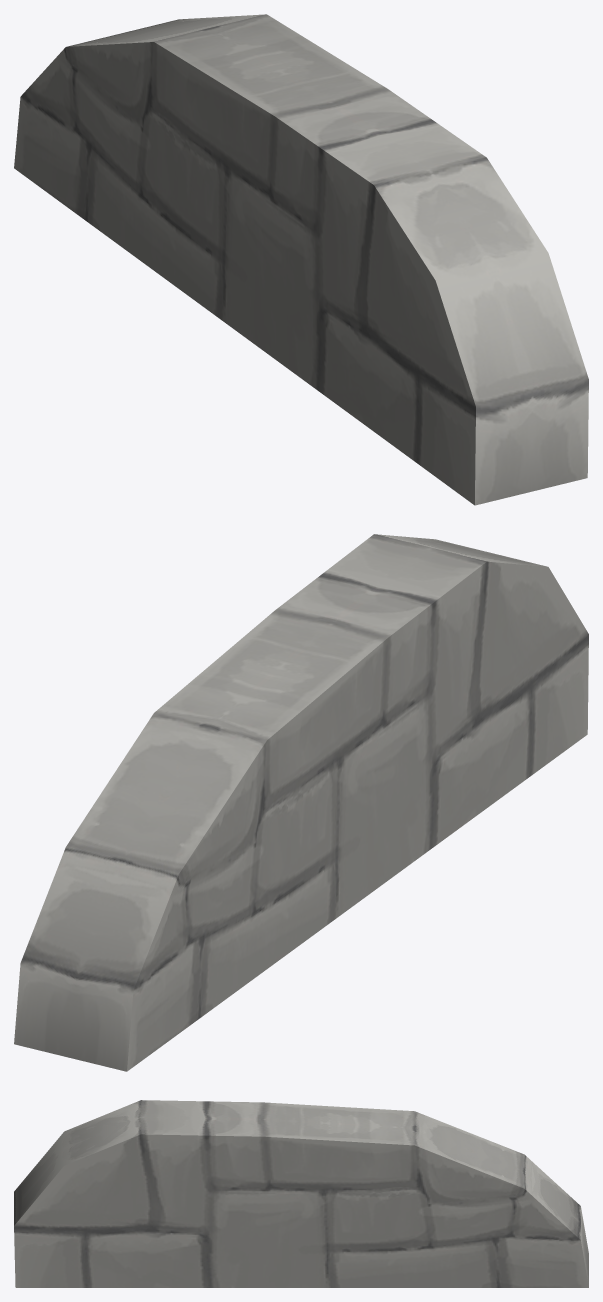
File: RuinedWall04_Geo.fbx
The picture shows the model from 3 angles, top to bottom: view 1: azimuth 30°, elevation 25°; view 2: azimuth 150°, elevation 25°; view 3: azimuth 270°, elevation 25°; orthographic projection. The views are drawn at different scales.
Parts seen in each view (by area): view 1: RuinedWall04_Geo; view 2: RuinedWall04_Geo; view 3: RuinedWall04_Geo.
Part boxes in pixels (x1=…): RuinedWall04_Geo: x1=14, y1=14, x2=588, y2=505; RuinedWall04_Geo: x1=14, y1=534, x2=588, y2=1071; RuinedWall04_Geo: x1=14, y1=1100, x2=588, y2=1287.
Bounding box in the file's own units: 27.92 × 58.26 × 198.
